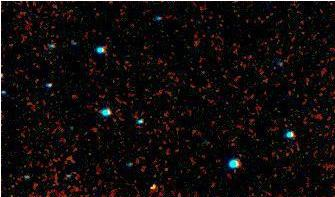star: (141, 164, 171, 194)
